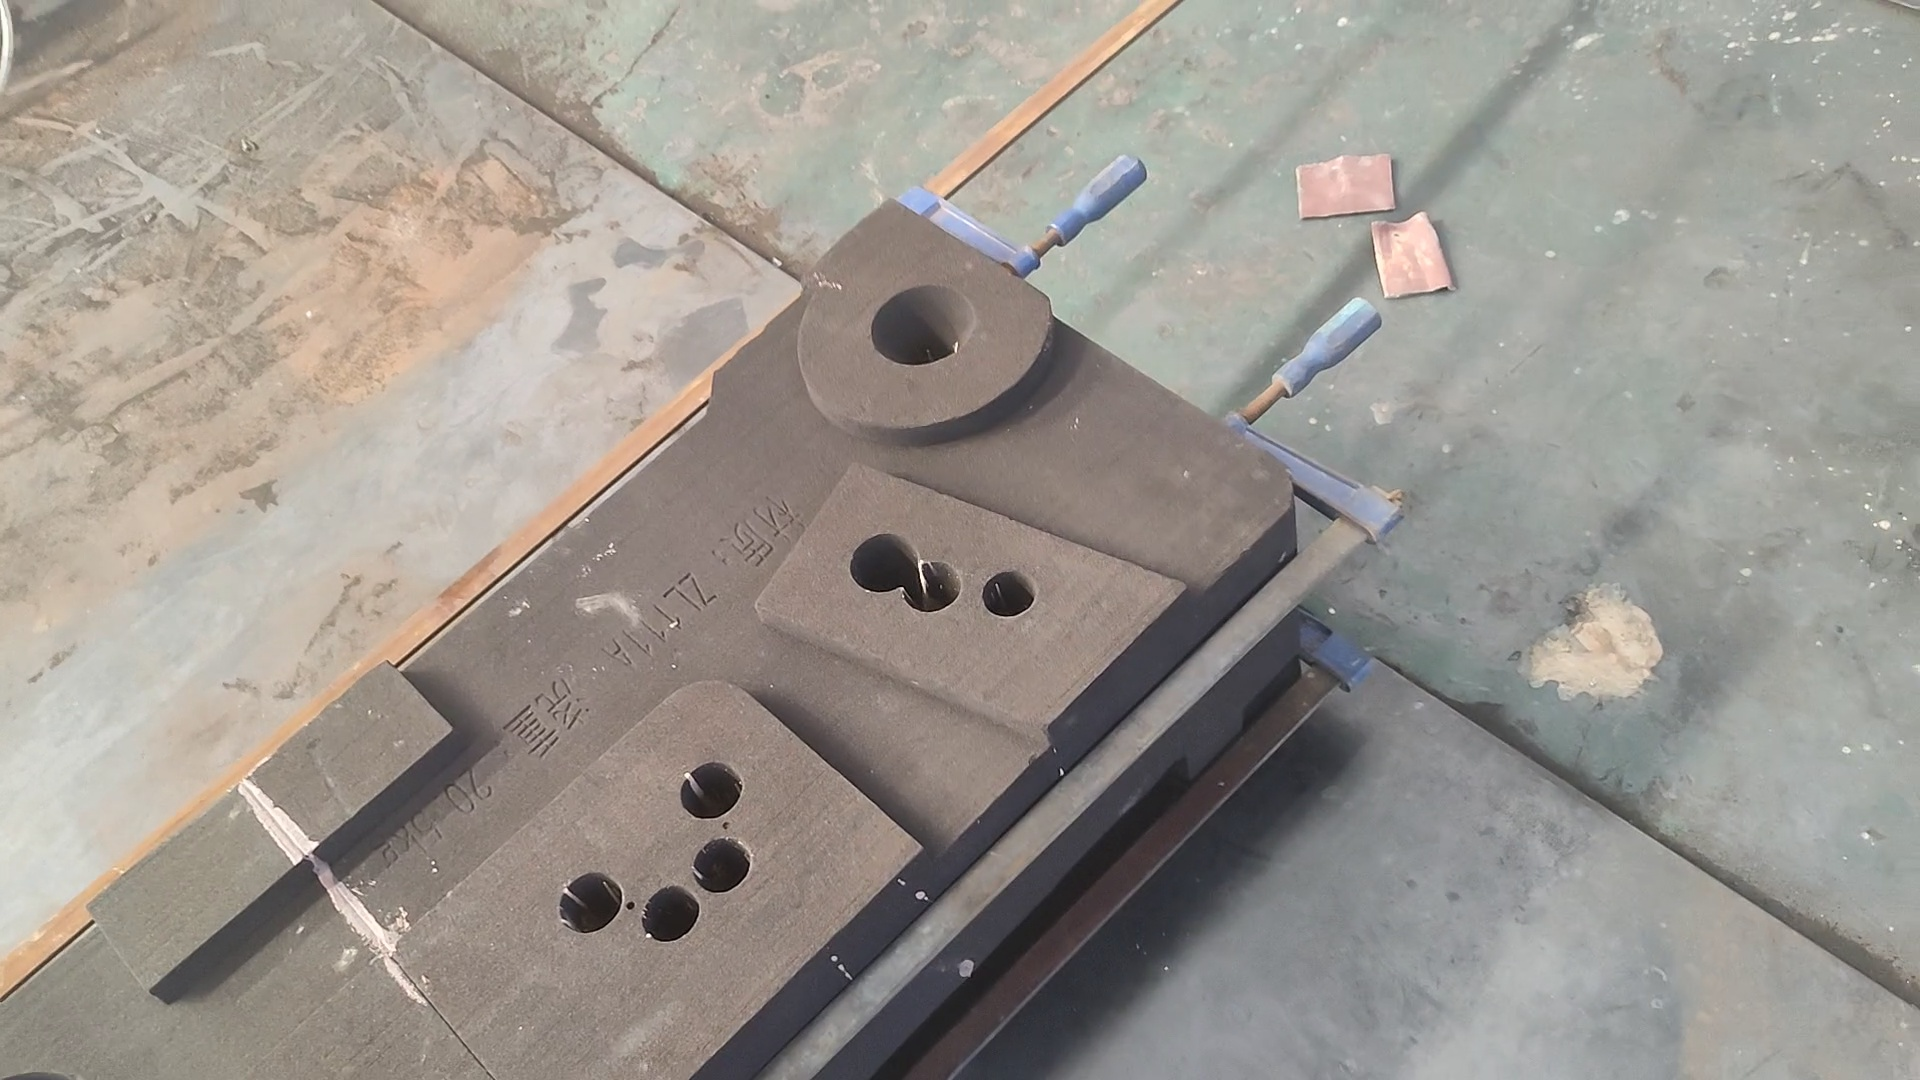pouring hole: (868, 284, 976, 367)
